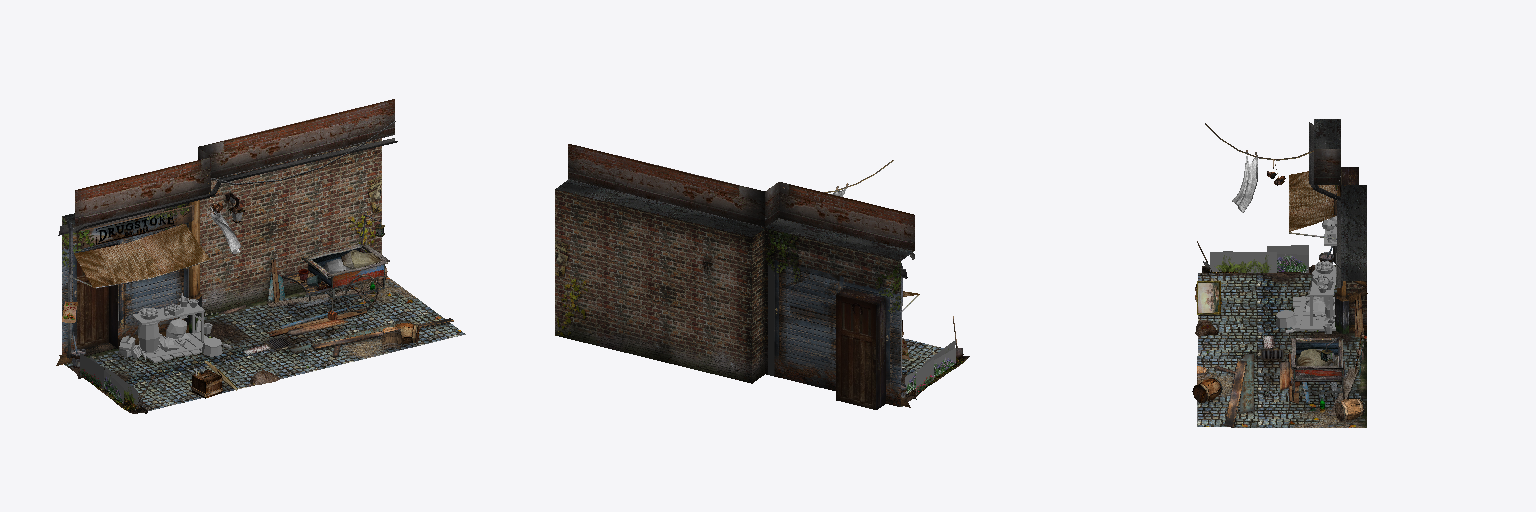
3 views of the same model, side by side, from view 1: azimuth 30°, elevation 25°; view 2: azimuth 150°, elevation 25°; view 3: azimuth 270°, elevation 25° (orthographic).
Parts seen in each view (by area): view 1: Alley_; view 2: Alley_; view 3: Alley_.
Part boxes in pixels (x1,y1,x2,y2): Alley_: (56, 99, 465, 413); Alley_: (555, 144, 969, 409); Alley_: (1192, 119, 1367, 427).
Bounding box in the file's own units: 956 × 499 × 424.
Materials: 4 (3 with a texture image).